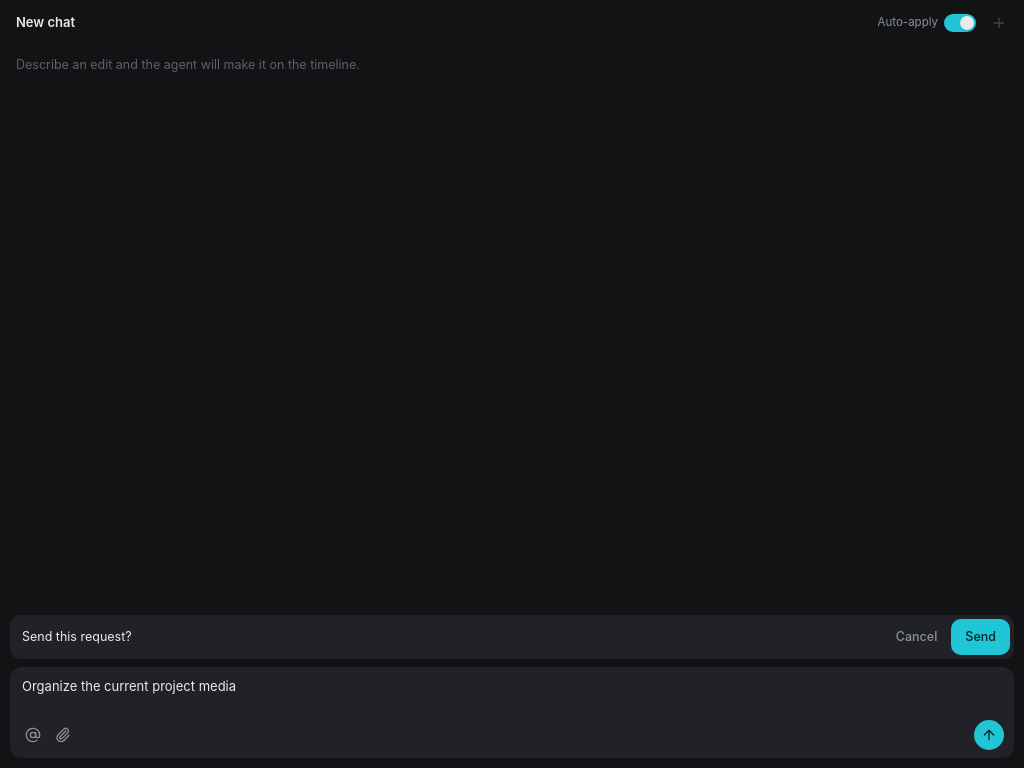
AiPanel › sends a confirmed Organize with AI request through the agent turn
Click the button "Send". click: (981, 637)
box: left=953, top=621, right=1008, bottom=653
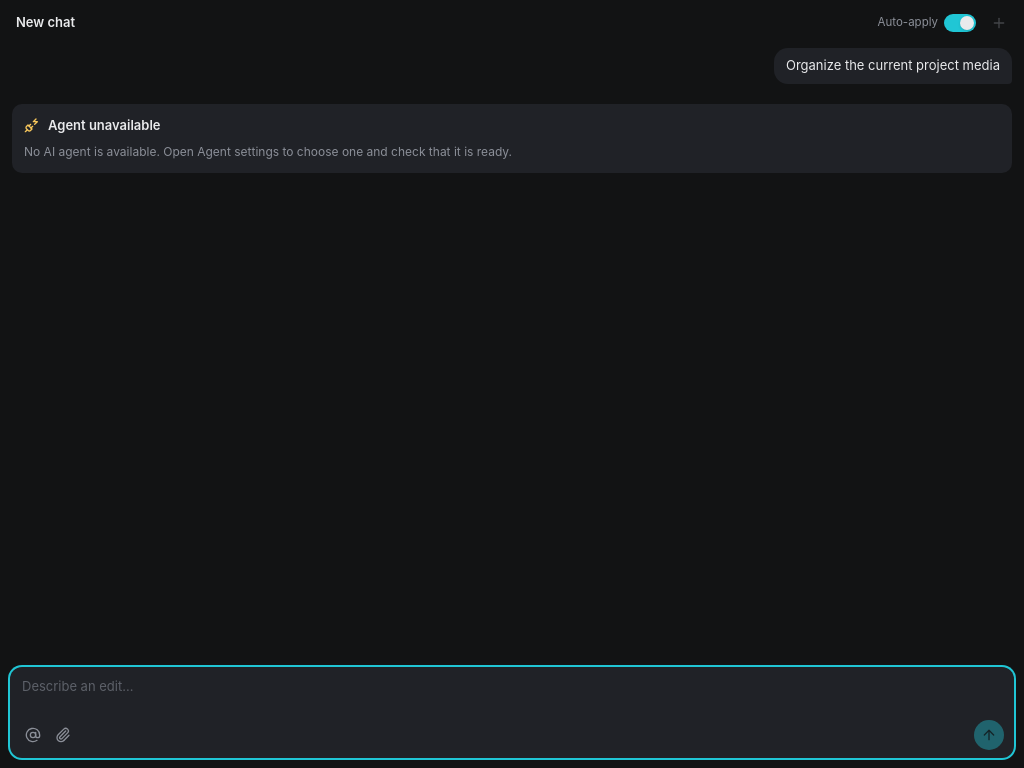
Check: the text "Send this request?" is gone
